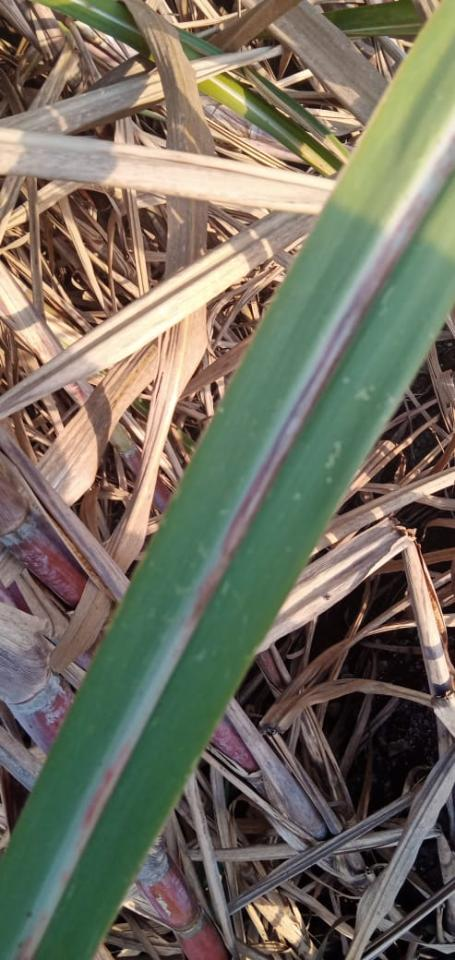RedRot: (172, 134, 454, 661), (11, 739, 136, 959)
